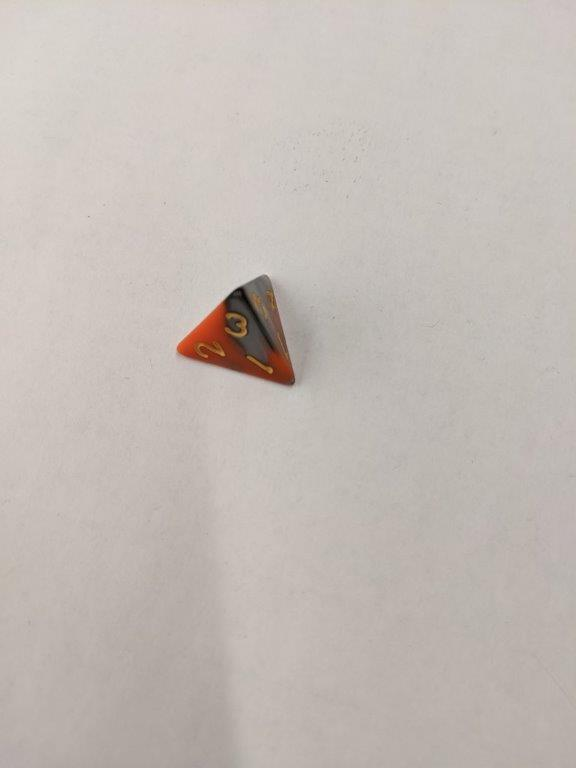d4-3: (174, 270, 304, 392)
